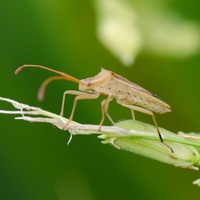insect: (15, 65, 173, 152)
